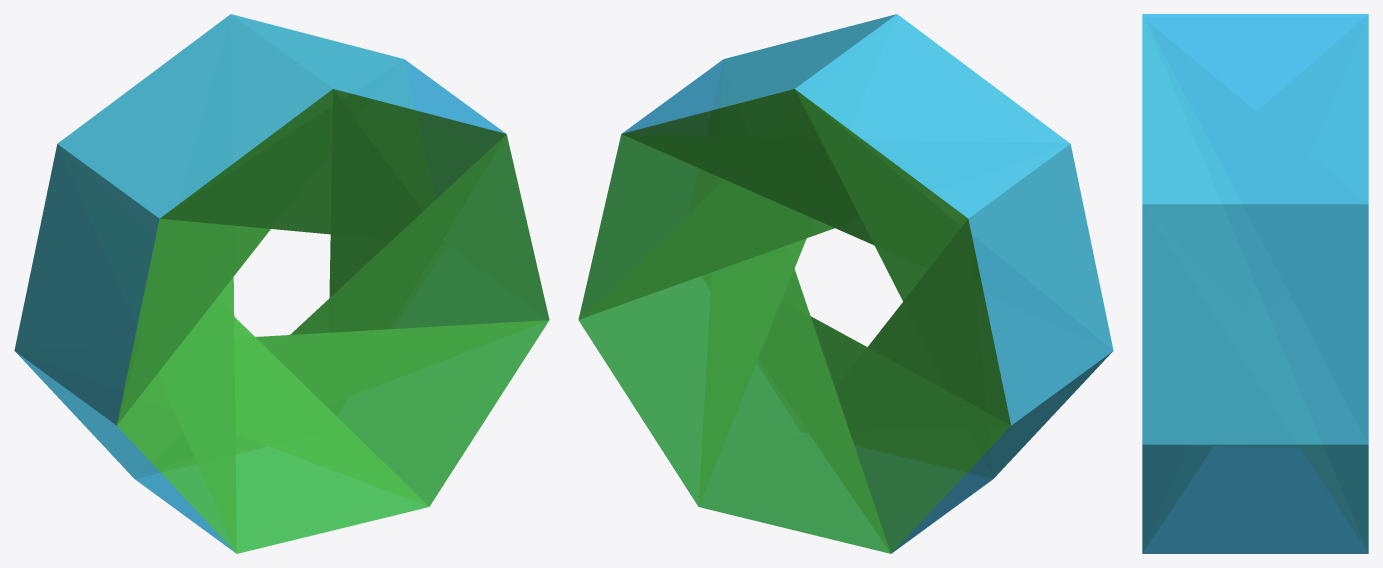
Rendered from HeptagonalIrisToroid.obj.
3 renders of one model, left to right at view 1: azimuth 30°, elevation 25°; view 2: azimuth 150°, elevation 25°; view 3: azimuth 270°, elevation 25°, orthographic. The views are drawn at different scales.
Size of the model in its own units: 2.25 by 2.19 by 0.92.
